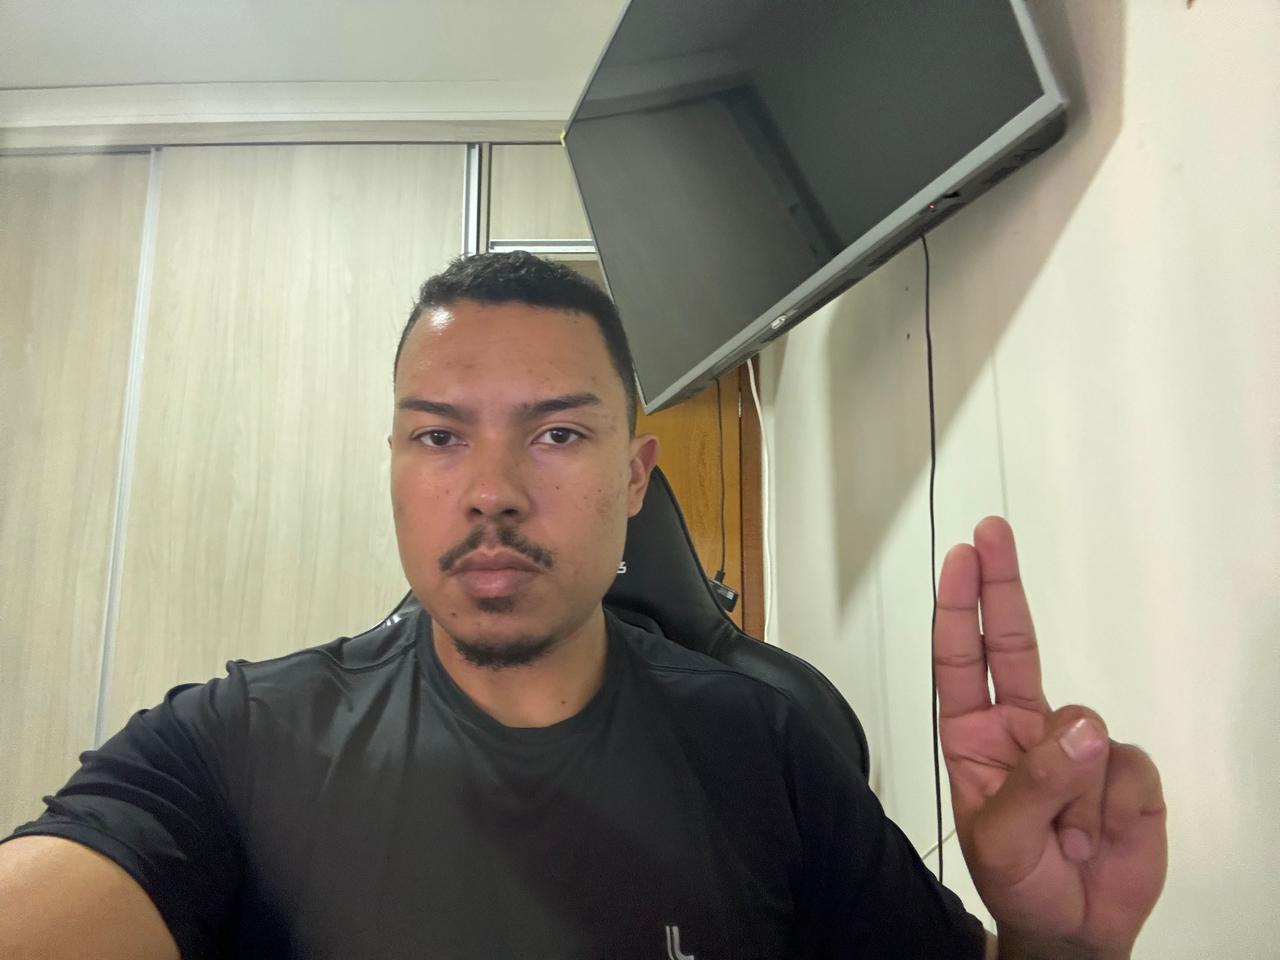u: (919, 511, 1175, 949)
